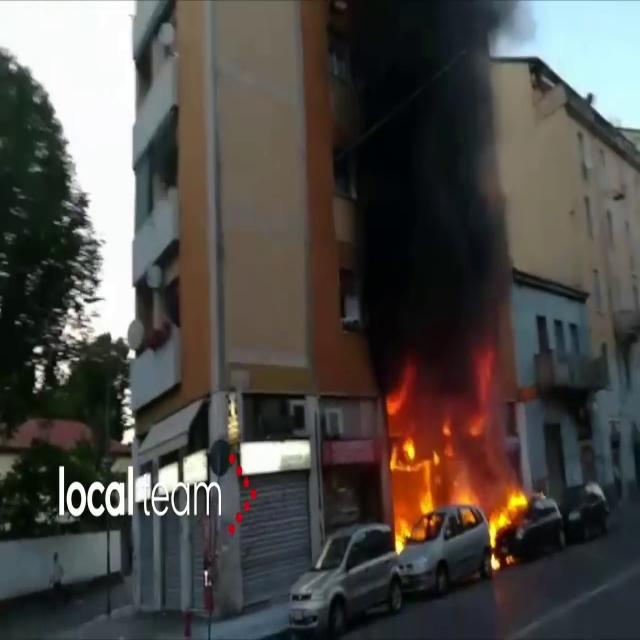Fire: (382, 379, 498, 547), (486, 476, 532, 564)
Smoke: (342, 1, 526, 381)
